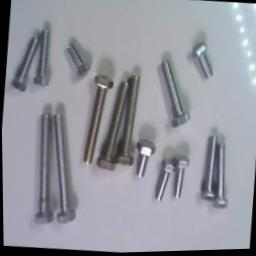Non-corroded-Bolts: (95, 76, 138, 171), (83, 76, 113, 165), (53, 114, 75, 224), (11, 30, 48, 91), (34, 114, 52, 224), (200, 137, 226, 210), (160, 62, 188, 128), (154, 157, 188, 202), (66, 44, 89, 81), (135, 140, 155, 179), (191, 45, 211, 80)
